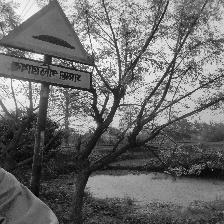Speed-breaker: (0, 0, 94, 92)
